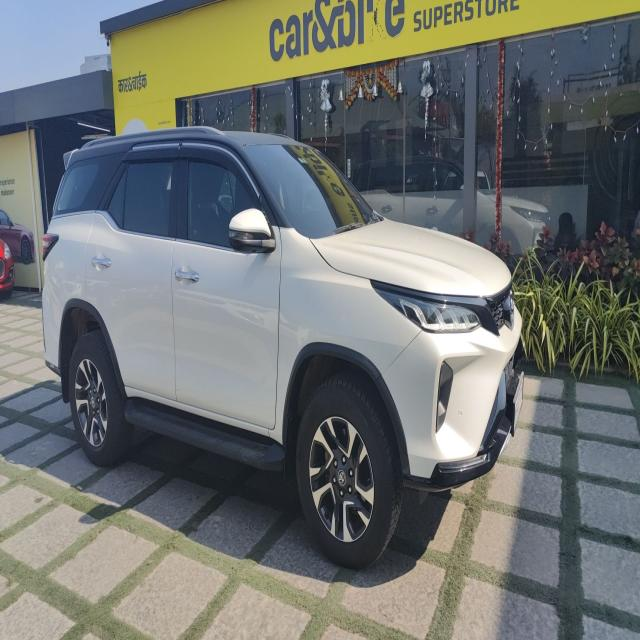light_vehicle: (40, 126, 525, 572)
